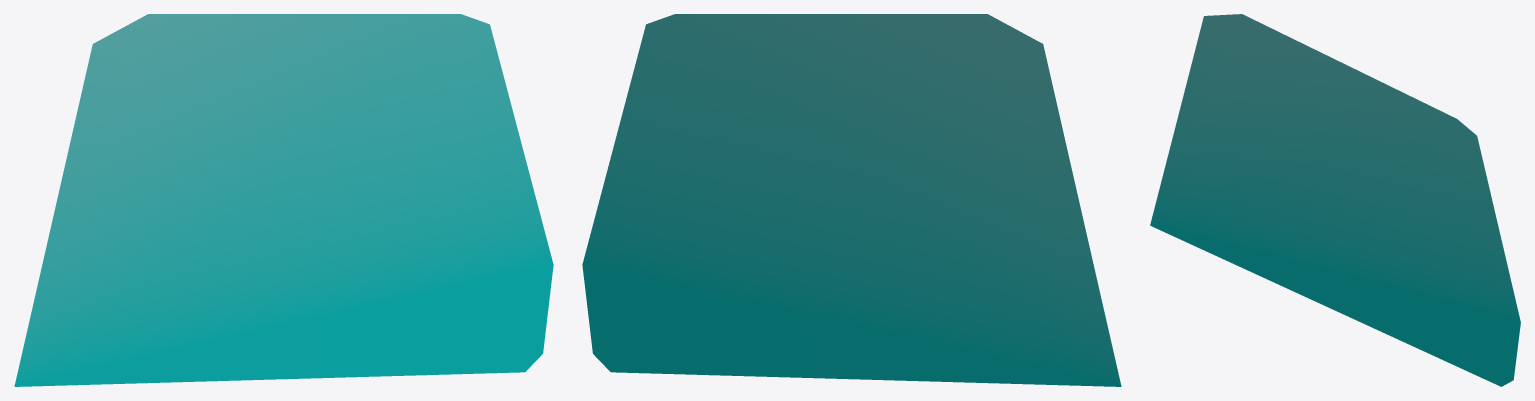
Rendered from Fern_sbslY_High_sbslY_VarA_LOD2.fbx.
3 renders of one model, left to right at view 1: azimuth 30°, elevation 25°; view 2: azimuth 150°, elevation 25°; view 3: azimuth 330°, elevation 25°, orthographic. The views are drawn at different scales.
Visible parts, largest first — view 1: _d211_VarA_LOD3; view 2: _d211_VarA_LOD3; view 3: _d211_VarA_LOD3.
Boxes of the visible parts, bbox=[...] form: _d211_VarA_LOD3: bbox=[14, 14, 553, 386]; _d211_VarA_LOD3: bbox=[582, 14, 1121, 386]; _d211_VarA_LOD3: bbox=[1150, 14, 1520, 386].
Bounding box in the file's own units: 136 × 109 × 0.
